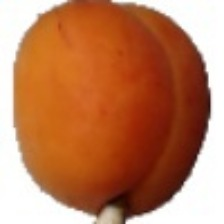apricot: (49, 18, 201, 188)
